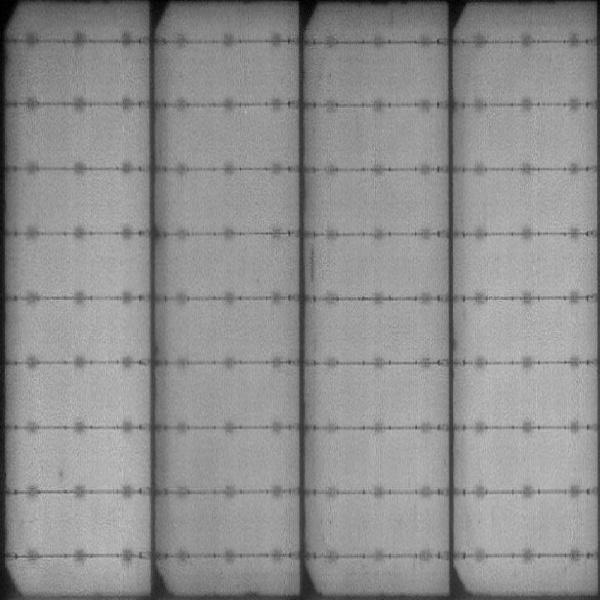scratch: (308, 241, 320, 292)
